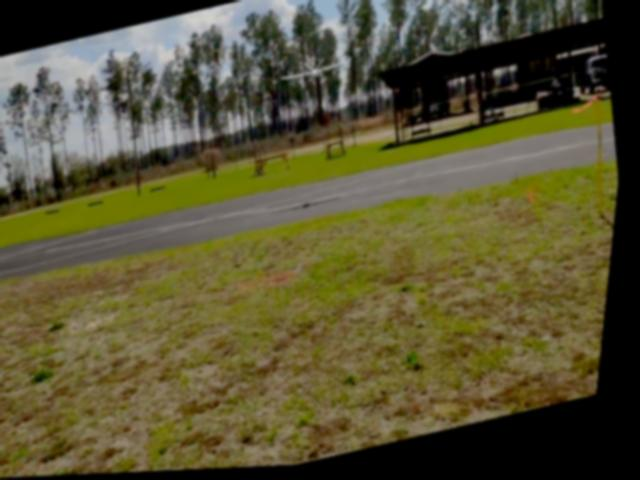plane: (277, 54, 352, 91)
